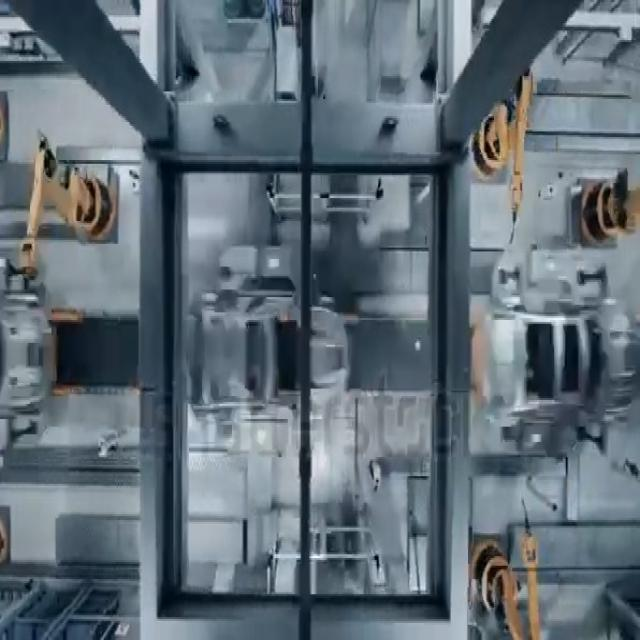auto: (170, 264, 366, 437), (471, 276, 640, 454)
robot: (17, 136, 130, 280), (461, 527, 551, 640), (472, 84, 544, 200), (574, 166, 640, 261)
